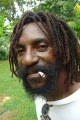male: (10, 18, 67, 96)
